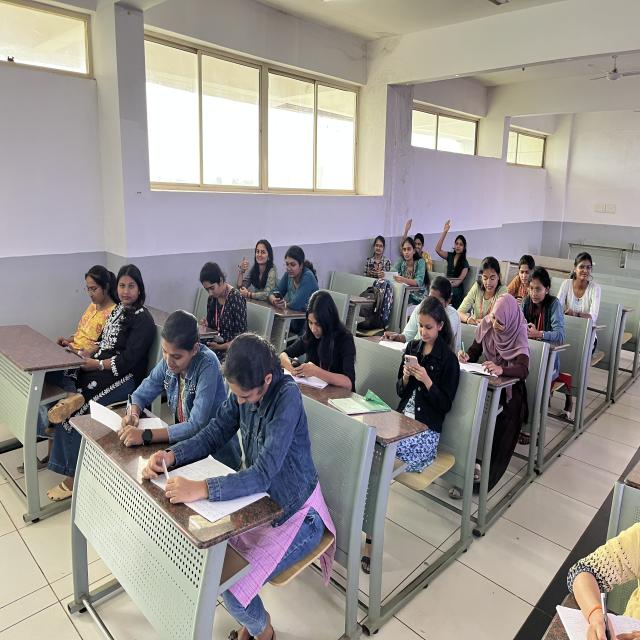Hand Rising: (430, 216, 475, 291), (398, 213, 432, 276)
Reading: (161, 322, 285, 549)
Using Phone: (65, 244, 159, 375), (389, 302, 467, 435), (282, 262, 354, 401)
Writing: (115, 309, 214, 449), (458, 285, 532, 397)
